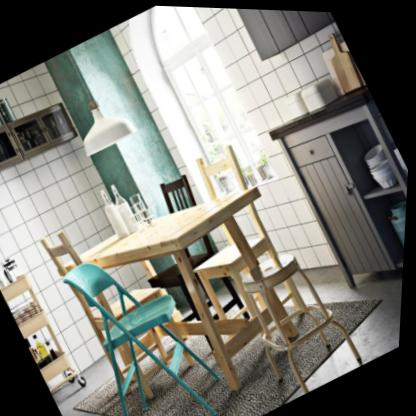Chair: (42, 223, 248, 416)
Table: (47, 154, 347, 416)
